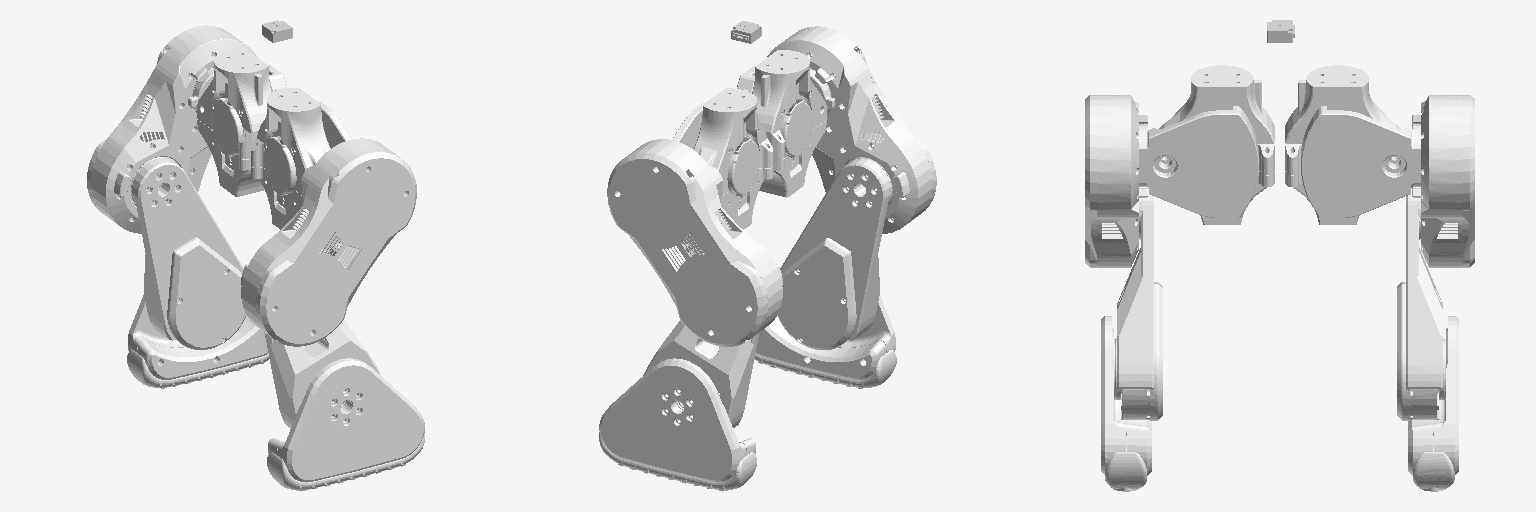
robot.urdf — qmini_description:
<?xml version="1.0" encoding="utf-8"?>
<!-- This URDF was automatically created by SolidWorks to URDF Exporter! Originally created by Stephen Brawner (brawner@gmail.com) 
     Commit Version: 1.6.0-4-g7f85cfe  Build Version: 1.6.7995.38578
     For more information, please see http://wiki.ros.org/sw_urdf_exporter -->
<robot
  name="qmini_description">
  <link
    name="base_link">
    <inertial>
      <origin
        xyz="-0.0157629137413307 -7.34491083326415E-05 -0.0591824473755171"
        rpy="0 0 0" />
      <mass
        value="5.90206584561033" />
      <inertia
        ixx="0.0153178237894157"
        ixy="-1.11287632290923E-05"
        ixz="0.00015800123692945"
        iyy="0.0150241686039219"
        iyz="1.12054268097266E-06"
        izz="0.0201501649366448" />
    </inertial>
    <visual>
      <origin
        xyz="0 0 0"
        rpy="0 0 0" />
      <geometry>
        <mesh
          filename="package://qmini_description/meshes/base_link.STL" />
      </geometry>
      <material
        name="">
        <color
          rgba="0.894117647058823 0.894117647058823 0.894117647058823 1" />
      </material>
    </visual>
    <collision>
      <origin
        xyz="0 0 0"
        rpy="0 0 0" />
      <geometry>
        <mesh
          filename="package://qmini_description/meshes/base_link.STL" />
      </geometry>
    </collision>
  </link>
  <link
    name="hip_yaw_l_link">
    <inertial>
      <origin
        xyz="0.00165647640151256 0.00181296981158362 -0.0717991168879709"
        rpy="0 0 0" />
      <mass
        value="0.802589402885363" />
      <inertia
        ixx="0.00107093055215153"
        ixy="1.48647380567536E-06"
        ixz="-5.16381353726266E-06"
        iyy="0.000540544347164448"
        iyz="-2.11002442250365E-05"
        izz="0.00064483814036061" />
    </inertial>
    <visual>
      <origin
        xyz="0 0 0"
        rpy="0 0 0" />
      <geometry>
        <mesh
          filename="package://qmini_description/meshes/hip_yaw_l_link.STL" />
      </geometry>
      <material
        name="">
        <color
          rgba="1 1 1 1" />
      </material>
    </visual>
    <collision>
      <origin
        xyz="0 0 0"
        rpy="0 0 0" />
      <geometry>
        <mesh
          filename="package://qmini_description/meshes/hip_yaw_l_link.STL" />
      </geometry>
    </collision>
  </link>
  <joint
    name="hip_yaw_l"
    type="revolute">
    <origin
      xyz="0.0135936510211813 0.0550000626641943 -0.0350999999999998"
      rpy="0 0 0" />
    <parent
      link="base_link" />
    <child
      link="hip_yaw_l_link" />
    <axis
      xyz="0 0 -1" />
    <limit
      lower="-0.5"
      upper="0.35"
      effort="20"
      velocity="30" />
    <dynamics
      damping="1"
      friction="0.01" />
  </joint>
  <link
    name="hip_roll_l_link">
    <inertial>
      <origin
        xyz="-0.00389005044212911 -0.0195082048136588 1.56234228611829E-05"
        rpy="0 0 0" />
      <mass
        value="0.144022608554608" />
      <inertia
        ixx="0.000305184757808118"
        ixy="-3.31055956781217E-05"
        ixz="-1.49717108598072E-10"
        iyy="0.000117250041002948"
        iyz="-1.0348983566969E-07"
        izz="0.000230691625313739" />
    </inertial>
    <visual>
      <origin
        xyz="0 0 0"
        rpy="0 0 0" />
      <geometry>
        <mesh
          filename="package://qmini_description/meshes/hip_roll_l_link.STL" />
      </geometry>
      <material
        name="">
        <color
          rgba="1 1 1 1" />
      </material>
    </visual>
    <collision>
      <origin
        xyz="0 0 0"
        rpy="0 0 0" />
      <geometry>
        <mesh
          filename="package://qmini_description/meshes/hip_roll_l_link.STL" />
      </geometry>
    </collision>
  </link>
  <joint
    name="hip_roll_l"
    type="revolute">
    <origin
      xyz="0.0325000000000028 0.0540000000000005 -0.073"
      rpy="0 0 0" />
    <parent
      link="hip_yaw_l_link" />
    <child
      link="hip_roll_l_link" />
    <axis
      xyz="1 0 0" />
    <limit
      lower="-0.45"
      upper="0.45"
      effort="60"
      velocity="10" />
    <dynamics
      damping="1"
      friction="0.07" />
  </joint>
  <link
    name="hip_pitch_l_link">
    <inertial>
      <origin
        xyz="-0.0370853727121926 0.0199872162854045 -0.0440851720384146"
        rpy="0 0 0" />
      <mass
        value="1.54138166088268" />
      <inertia
        ixx="0.00220626762376399"
        ixy="5.37498356278494E-07"
        ixz="0.000720959409903306"
        iyy="0.00403901039975133"
        iyz="-1.32675416495304E-06"
        izz="0.00198850519863088" />
    </inertial>
    <visual>
      <origin
        xyz="0 0 0"
        rpy="0 0 0" />
      <geometry>
        <mesh
          filename="package://qmini_description/meshes/hip_pitch_l_link.STL" />
      </geometry>
      <material
        name="">
        <color
          rgba="1 1 1 1" />
      </material>
    </visual>
    <collision>
      <origin
        xyz="0 0 0"
        rpy="0 0 0" />
      <geometry>
        <mesh
          filename="package://qmini_description/meshes/hip_pitch_l_link.STL" />
      </geometry>
    </collision>
  </link>
  <joint
    name="hip_pitch_l"
    type="revolute">
    <origin
      xyz="-0.0160000000000013 0.028 0"
      rpy="0 0 0" />
    <parent
      link="hip_roll_l_link" />
    <child
      link="hip_pitch_l_link" />
    <axis
      xyz="0 1 0" />
    <limit
      lower="-0.6"
      upper="1.45"
      effort="20"
      velocity="30" />
    <dynamics
      damping="0.4"
      friction="0.03" />
  </joint>
  <link
    name="knee_pitch_l_link">
    <inertial>
      <origin
        xyz="0.0432278023109246 -0.00109981773328491 -0.119229853753992"
        rpy="0 0 0" />
      <mass
        value="0.882230006451168" />
      <inertia
        ixx="0.00106518818243287"
        ixy="1.83160319626554E-05"
        ixz="-0.00014997138188366"
        iyy="0.00168838276673424"
        iyz="-5.19014420847032E-05"
        izz="0.000718007813839056" />
    </inertial>
    <visual>
      <origin
        xyz="0 0 0"
        rpy="0 0 0" />
      <geometry>
        <mesh
          filename="package://qmini_description/meshes/knee_pitch_l_link.STL" />
      </geometry>
      <material
        name="">
        <color
          rgba="1 1 1 1" />
      </material>
    </visual>
    <collision>
      <origin
        xyz="0 0 0"
        rpy="0 0 0" />
      <geometry>
        <mesh
          filename="package://qmini_description/meshes/knee_pitch_l_link.STL" />
      </geometry>
    </collision>
  </link>
  <joint
    name="knee_pitch_l"
    type="revolute">
    <origin
      xyz="-0.073920575113949 0 -0.0880951109586866"
      rpy="0 0 0" />
    <parent
      link="hip_pitch_l_link" />
    <child
      link="knee_pitch_l_link" />
    <axis
      xyz="0 -1 0" />
    <limit
      lower="-1.1"
      upper="1.05"
      effort="20"
      velocity="30" />
    <dynamics
      damping="1"
      friction="0.01" />
  </joint>
  <link
    name="ankle_pitch_l_link">
    <inertial>
      <origin
        xyz="0.0160200336285524 -0.00588739541300684 -0.0429771308289361"
        rpy="0 0 0" />
      <mass
        value="0.44945849105282" />
      <inertia
        ixx="0.000309169731140671"
        ixy="-4.94835435928686E-06"
        ixz="-1.90480560082451E-06"
        iyy="0.00128546850505189"
        iyz="1.21715229494537E-05"
        izz="0.00101651373552004" />
    </inertial>
    <visual>
      <origin
        xyz="0 0 0"
        rpy="0 0 0" />
      <geometry>
        <mesh
          filename="package://qmini_description/meshes/ankle_pitch_l_link.STL" />
      </geometry>
      <material
        name="">
        <color
          rgba="1 1 1 1" />
      </material>
    </visual>
    <collision>
      <origin
        xyz="0 0 0"
        rpy="0 0 0" />
      <geometry>
        <mesh
          filename="package://qmini_description/meshes/ankle_pitch_l_link.STL" />
      </geometry>
    </collision>
  </link>
  <joint
    name="ankle_pitch_l"
    type="revolute">
    <origin
      xyz="0.0530131222154821 0.0211000000000001 -0.145652356221812"
      rpy="0 0 0" />
    <parent
      link="knee_pitch_l_link" />
    <child
      link="ankle_pitch_l_link" />
    <axis
      xyz="0 1 0" />
    <limit
      lower="-1.6"
      upper="1.05"
      effort="20"
      velocity="30" />
    <dynamics
      damping="0.8"
      friction="0.01" />
  </joint>
  <link
    name="hip_yaw_r_link">
    <inertial>
      <origin
        xyz="0.00165648886918373 -0.00146564825057634 -0.0717991334362604"
        rpy="0 0 0" />
      <mass
        value="0.802588717539285" />
      <inertia
        ixx="0.00107092962090079"
        ixy="-4.07622705170627E-07"
        ixz="-5.16387568638328E-06"
        iyy="0.000540544477747548"
        iyz="2.773698846963E-05"
        izz="0.000644837482831552" />
    </inertial>
    <visual>
      <origin
        xyz="0 0 0"
        rpy="0 0 0" />
      <geometry>
        <mesh
          filename="package://qmini_description/meshes/hip_yaw_r_link.STL" />
      </geometry>
      <material
        name="">
        <color
          rgba="1 1 1 1" />
      </material>
    </visual>
    <collision>
      <origin
        xyz="0 0 0"
        rpy="0 0 0" />
      <geometry>
        <mesh
          filename="package://qmini_description/meshes/hip_yaw_r_link.STL" />
      </geometry>
    </collision>
  </link>
  <joint
    name="hip_yaw_r"
    type="revolute">
    <origin
      xyz="0.0135936510211862 -0.0549999373358046 -0.0350999999999998"
      rpy="0 0 0" />
    <parent
      link="base_link" />
    <child
      link="hip_yaw_r_link" />
    <axis
      xyz="0 0 -1" />
    <limit
      lower="-0.35"
      upper="0.5"
      effort="20"
      velocity="30" />
    <dynamics
      damping="1"
      friction="0.01" />
  </joint>
  <link
    name="hip_roll_r_link">
    <inertial>
      <origin
        xyz="-0.00389003935560397 0.0195082319574152 1.56088872017568E-05"
        rpy="0 0 0" />
      <mass
        value="0.144022449768194" />
      <inertia
        ixx="0.000305184633340009"
        ixy="3.31055617352024E-05"
        ixz="-1.32897665535591E-10"
        iyy="0.000117250016853225"
        iyz="1.03545111651318E-07"
        izz="0.00023069150460525" />
    </inertial>
    <visual>
      <origin
        xyz="0 0 0"
        rpy="0 0 0" />
      <geometry>
        <mesh
          filename="package://qmini_description/meshes/hip_roll_r_link.STL" />
      </geometry>
      <material
        name="">
        <color
          rgba="1 1 1 1" />
      </material>
    </visual>
    <collision>
      <origin
        xyz="0 0 0"
        rpy="0 0 0" />
      <geometry>
        <mesh
          filename="package://qmini_description/meshes/hip_roll_r_link.STL" />
      </geometry>
    </collision>
  </link>
  <joint
    name="hip_roll_r"
    type="revolute">
    <origin
      xyz="0.0324999999999978 -0.0540000000000006 -0.0729999999999999"
      rpy="0 0 0" />
    <parent
      link="hip_yaw_r_link" />
    <child
      link="hip_roll_r_link" />
    <axis
      xyz="1 0 0" />
    <limit
      lower="-0.45"
      upper="0.45"
      effort="60"
      velocity="10" />
    <dynamics
      damping="1"
      friction="0.07" />
  </joint>
  <link
    name="hip_pitch_r_link">
    <inertial>
      <origin
        xyz="-0.0370855936653168 -0.0199872132282467 -0.0440851410336457"
        rpy="0 0 0" />
      <mass
        value="1.54138123257867" />
      <inertia
        ixx="0.00221933289294606"
        ixy="-5.37817808725351E-07"
        ixz="0.000718651072884335"
        iyy="0.00403900062726467"
        iyz="1.32636957755936E-06"
        izz="0.00197542996710105" />
    </inertial>
    <visual>
      <origin
        xyz="0 0 0"
        rpy="0 0 0" />
      <geometry>
        <mesh
          filename="package://qmini_description/meshes/hip_pitch_r_link.STL" />
      </geometry>
      <material
        name="">
        <color
          rgba="1 1 1 1" />
      </material>
    </visual>
    <collision>
      <origin
        xyz="0 0 0"
        rpy="0 0 0" />
      <geometry>
        <mesh
          filename="package://qmini_description/meshes/hip_pitch_r_link.STL" />
      </geometry>
    </collision>
  </link>
  <joint
    name="hip_pitch_r"
    type="revolute">
    <origin
      xyz="-0.0159999999999998 -0.028 0"
      rpy="0 0 0" />
    <parent
      link="hip_roll_r_link" />
    <child
      link="hip_pitch_r_link" />
    <axis
      xyz="0 -1 0" />
    <limit
      lower="-1.45"
      upper="0.6"
      effort="20"
      velocity="30" />
    <dynamics
      damping="0.4"
      friction="0.03" />
  </joint>
  <link
    name="knee_pitch_r_link">
    <inertial>
      <origin
        xyz="0.0435247482781496 0.00109981803033821 -0.119121777189781"
        rpy="0 0 0" />
      <mass
        value="0.882229952732639" />
      <inertia
        ixx="0.00106945378629282"
        ixy="-1.93295737150471E-05"
        ixz="-0.000144887833142696"
        iyy="0.00168838276041873"
        iyz="5.15325382707053E-05"
        izz="0.000713742188906135" />
    </inertial>
    <visual>
      <origin
        xyz="0 0 0"
        rpy="0 0 0" />
      <geometry>
        <mesh
          filename="package://qmini_description/meshes/knee_pitch_r_link.STL" />
      </geometry>
      <material
        name="">
        <color
          rgba="1 1 1 1" />
      </material>
    </visual>
    <collision>
      <origin
        xyz="0 0 0"
        rpy="0 0 0" />
      <geometry>
        <mesh
          filename="package://qmini_description/meshes/knee_pitch_r_link.STL" />
      </geometry>
    </collision>
  </link>
  <joint
    name="knee_pitch_r"
    type="revolute">
    <origin
      xyz="-0.0739205751139517 0 -0.0880951109586838"
      rpy="0 0 0" />
    <parent
      link="hip_pitch_r_link" />
    <child
      link="knee_pitch_r_link" />
    <axis
      xyz="0 1 0" />
    <limit
      lower="-1.05"
      upper="1.1"
      effort="20"
      velocity="30" />
    <dynamics
      damping="1"
      friction="0.01" />
  </joint>
  <link
    name="ankle_pitch_r_link">
    <inertial>
      <origin
        xyz="0.0160198556632132 0.00558771081806869 -0.0429771394304693"
        rpy="0 0 0" />
      <mass
        value="0.449458238705845" />
      <inertia
        ixx="0.000309169724661408"
        ixy="4.94966909285261E-06"
        ixz="-1.90423548111343E-06"
        iyy="0.00128546302014577"
        iyz="-1.21727193412623E-05"
        izz="0.00101650778169345" />
    </inertial>
    <visual>
      <origin
        xyz="0 0 0"
        rpy="0 0 0" />
      <geometry>
        <mesh
          filename="package://qmini_description/meshes/ankle_pitch_r_link.STL" />
      </geometry>
      <material
        name="">
        <color
          rgba="1 1 1 1" />
      </material>
    </visual>
    <collision>
      <origin
        xyz="0 0 0"
        rpy="0 0 0" />
      <geometry>
        <mesh
          filename="package://qmini_description/meshes/ankle_pitch_r_link.STL" />
      </geometry>
    </collision>
  </link>
  <joint
    name="ankle_pitch_r"
    type="revolute">
    <origin
      xyz="0.0530131222154776 -0.0211000000000001 -0.145652356221815"
      rpy="0 0 0" />
    <parent
      link="knee_pitch_r_link" />
    <child
      link="ankle_pitch_r_link" />
    <axis
      xyz="0 -1 0" />
    <limit
      lower="-1.05"
      upper="1.6"
      effort="20"
      velocity="30" />
    <dynamics
      damping="0.8"
      friction="0.01" />
  </joint>
  <link
    name="imu">
    <inertial>
      <origin
        xyz="-2.26414277778274E-06 0.000197259770274789 0.000146615187144011"
        rpy="0 0 0" />
      <mass
        value="0.00680213073863758" />
      <inertia
        ixx="4.12631829543454E-07"
        ixy="-1.7416228257396E-08"
        ixz="-8.32584211322656E-11"
        iyy="3.98458190852856E-07"
        iyz="-4.5260008111497E-11"
        izz="6.51125958482511E-07" />
    </inertial>
    <visual>
      <origin
        xyz="0 0 0"
        rpy="0 0 0" />
      <geometry>
        <mesh
          filename="package://qmini_description/meshes/imu.STL" />
      </geometry>
      <material
        name="">
        <color
          rgba="0.894117647058823 0.894117647058823 0.894117647058823 1" />
      </material>
    </visual>
    <collision>
      <origin
        xyz="0 0 0"
        rpy="0 0 0" />
      <geometry>
        <mesh
          filename="package://qmini_description/meshes/imu.STL" />
      </geometry>
    </collision>
  </link>
  <joint
    name="imu"
    type="fixed">
    <origin
      xyz="0.0235936510996696 0 0.0188"
      rpy="0 0 0" />
    <parent
      link="base_link" />
    <child
      link="imu" />
    <axis
      xyz="0 0 0" />
  </joint>
</robot>

--- What the picture shows (computed from the rendered views, not written in the file) ---
3 views of the same robot in one strip: view 1: azimuth 30°, elevation 25°; view 2: azimuth 150°, elevation 25°; view 3: azimuth 270°, elevation 25° (orthographic).
Model qmini_description with 12 links and 11 joints (10 revolute, 1 fixed), rooted at base_link, posed every joint at zero.
Visible links, largest first — view 1: hip_pitch_r_link, knee_pitch_l_link, ankle_pitch_r_link, hip_pitch_l_link, hip_yaw_l_link, hip_yaw_r_link, ankle_pitch_l_link, knee_pitch_r_link, hip_roll_r_link, hip_roll_l_link, imu; view 2: hip_pitch_l_link, knee_pitch_r_link, ankle_pitch_l_link, hip_pitch_r_link, hip_yaw_r_link, hip_yaw_l_link, ankle_pitch_r_link, knee_pitch_l_link, hip_roll_l_link, hip_roll_r_link, imu; view 3: hip_roll_l_link, hip_roll_r_link, hip_pitch_l_link, hip_pitch_r_link, knee_pitch_l_link, knee_pitch_r_link, hip_yaw_l_link, hip_yaw_r_link, ankle_pitch_l_link, ankle_pitch_r_link, imu.
Link boxes in pixels (<box>): hip_pitch_r_link: <box>241,138,416,346</box>; knee_pitch_l_link: <box>132,158,245,349</box>; ankle_pitch_r_link: <box>267,358,424,490</box>; hip_pitch_l_link: <box>87,25,256,233</box>; hip_yaw_l_link: <box>197,49,271,196</box>; hip_yaw_r_link: <box>251,87,330,229</box>; ankle_pitch_l_link: <box>127,295,269,388</box>; knee_pitch_r_link: <box>264,320,380,427</box>; hip_roll_r_link: <box>319,102,351,148</box>; hip_roll_l_link: <box>188,65,286,110</box>; imu: <box>262,20,292,42</box>; hip_pitch_l_link: <box>607,139,782,346</box>; knee_pitch_r_link: <box>777,158,891,349</box>; ankle_pitch_l_link: <box>599,358,756,491</box>; hip_pitch_r_link: <box>767,26,936,233</box>; hip_yaw_r_link: <box>752,50,826,197</box>; hip_yaw_l_link: <box>693,88,772,229</box>; ankle_pitch_r_link: <box>754,296,896,388</box>; knee_pitch_l_link: <box>643,320,759,427</box>; hip_roll_l_link: <box>672,103,704,148</box>; hip_roll_r_link: <box>737,65,834,111</box>; imu: <box>731,21,761,43</box>; hip_roll_l_link: <box>1301,106,1420,217</box>; hip_roll_r_link: <box>1139,106,1258,217</box>; hip_pitch_l_link: <box>1412,95,1474,267</box>; hip_pitch_r_link: <box>1085,95,1147,267</box>; knee_pitch_l_link: <box>1397,187,1445,420</box>; knee_pitch_r_link: <box>1114,187,1162,420</box>; hip_yaw_l_link: <box>1285,65,1400,224</box>; hip_yaw_r_link: <box>1159,65,1274,224</box>; ankle_pitch_l_link: <box>1408,316,1458,491</box>; ankle_pitch_r_link: <box>1101,316,1151,491</box>; imu: <box>1267,20,1294,42</box>.
Bounding box of the posed robot: 0.2104 × 0.3712 × 0.4613 m (x, y, z).
Meshes: 12 distinct files referenced, 11 mesh visuals loaded (11 binary STL); not drawn: 1 (reference not matched to a file when rendering).
